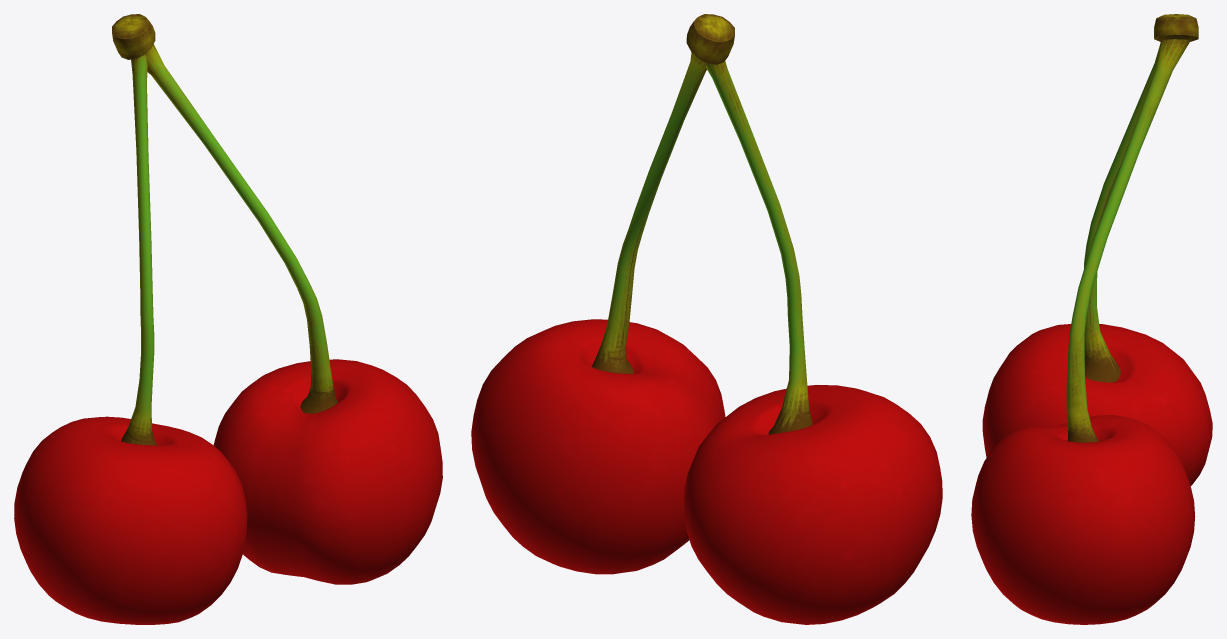
File: cherries-transformed.glb
3 views of the same model, side by side, from view 1: azimuth 30°, elevation 25°; view 2: azimuth 150°, elevation 25°; view 3: azimuth 270°, elevation 25° (orthographic). The views are drawn at different scales.
Parts seen in each view (by area): view 1: pSphere2, pSphere1, pCylinder1, pCylinder2; view 2: pSphere2, pSphere1, pCylinder1, pCylinder2; view 3: pSphere1, pSphere2, pCylinder1, pCylinder2.
Boxes of the visible parts, bbox=[...] form: pSphere2: bbox=[14, 416, 247, 624]; pSphere1: bbox=[213, 359, 442, 584]; pCylinder1: bbox=[112, 14, 337, 413]; pCylinder2: bbox=[121, 55, 157, 445]; pSphere2: bbox=[683, 385, 942, 624]; pSphere1: bbox=[471, 319, 725, 574]; pCylinder1: bbox=[592, 14, 734, 373]; pCylinder2: bbox=[705, 61, 812, 434]; pSphere1: bbox=[971, 415, 1195, 624]; pSphere2: bbox=[982, 324, 1212, 485]; pCylinder1: bbox=[1066, 14, 1198, 442]; pCylinder2: bbox=[1084, 44, 1160, 382].
Bounding box in the file's own units: 5.71 × 7.59 × 3.15.
Materials: 2 (2 with a texture image).
